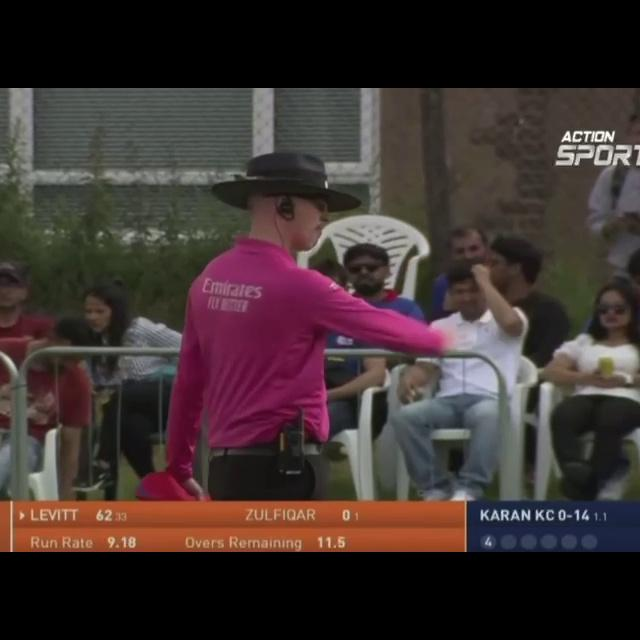umpire: (104, 99, 504, 500)
